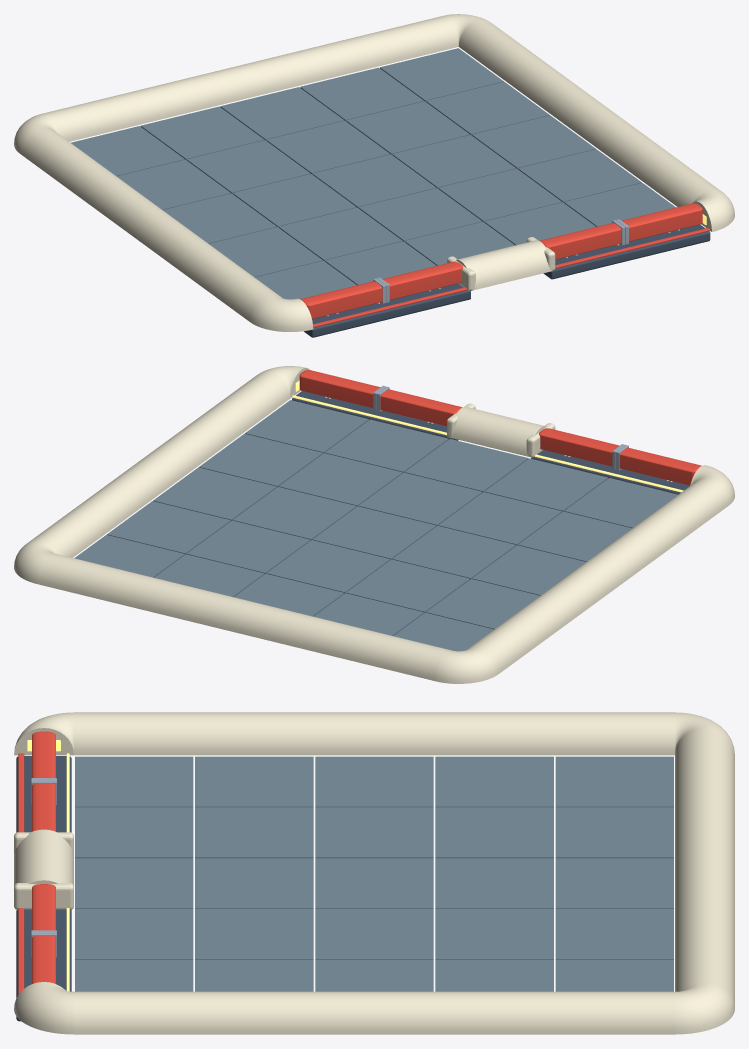
File: AFJ_Modular_Board_5x5_Example.fbx
The picture shows the model from 3 angles, top to bottom: view 1: azimuth 30°, elevation 25°; view 2: azimuth 150°, elevation 25°; view 3: azimuth 270°, elevation 25°; orthographic projection. The views are drawn at different scales.
Parts seen in each view (by area): view 1: Tile_3_3, Tile_1_2, Tile_1_3, Tile_2_1, Tile_2_2, Tile_2_3, Tile_2_4, Tile_3_2, Tile_3_4, Tile_1_4, Tile_4_2, Tile_1_1 (+40 smaller); view 2: Tile_2_2, Tile_3_2, Tile_1_0, Tile_1_3, Tile_4_3, Tile_1_1, Tile_2_3, Tile_2_0, Tile_2_1, Tile_3_3, Tile_4_0, Tile_4_1 (+39 smaller); view 3: Tile_0_1, Tile_0_2, Tile_0_3, Tile_1_1, Tile_1_2, Tile_1_3, Tile_1_0, Tile_1_4, Tile_0_0, Tile_0_4, Tile_2_0, Tile_2_1 (+42 smaller).
Boxes of the visible parts, left/top/right/bottom form: Tile_3_3: left=346, top=101, right=469, bottom=154; Tile_1_2: left=232, top=174, right=356, bottom=227; Tile_1_3: left=186, top=140, right=310, bottom=193; Tile_2_1: left=358, top=188, right=482, bottom=241; Tile_2_2: left=312, top=154, right=436, bottom=207; Tile_2_3: left=266, top=121, right=390, bottom=174; Tile_2_4: left=220, top=87, right=344, bottom=140; Tile_3_2: left=392, top=135, right=516, bottom=188; Tile_3_4: left=300, top=67, right=423, bottom=121; Tile_1_4: left=140, top=106, right=264, bottom=159; Tile_4_2: left=472, top=115, right=595, bottom=168; Tile_1_1: left=279, top=207, right=402, bottom=261; Tile_2_2: left=312, top=506, right=436, bottom=559; Tile_3_2: left=232, top=487, right=356, bottom=540; Tile_1_0: left=484, top=458, right=608, bottom=511; Tile_1_3: left=346, top=559, right=469, bottom=613; Tile_4_3: left=107, top=501, right=230, bottom=554; Tile_1_1: left=438, top=492, right=562, bottom=545; Tile_2_3: left=266, top=540, right=390, bottom=593; Tile_2_0: left=404, top=439, right=528, bottom=492; Tile_2_1: left=358, top=472, right=482, bottom=526; Tile_3_3: left=187, top=520, right=310, bottom=573; Tile_4_0: left=245, top=400, right=368, bottom=453; Tile_4_1: left=199, top=433, right=322, bottom=487; Tile_0_1: left=195, top=756, right=313, bottom=807; Tile_0_2: left=315, top=756, right=433, bottom=807; Tile_0_3: left=435, top=756, right=553, bottom=807; Tile_1_1: left=195, top=807, right=313, bottom=858; Tile_1_2: left=315, top=807, right=433, bottom=858; Tile_1_3: left=435, top=807, right=553, bottom=858; Tile_1_0: left=75, top=807, right=193, bottom=858; Tile_1_4: left=555, top=807, right=673, bottom=858; Tile_0_0: left=75, top=756, right=193, bottom=807; Tile_0_4: left=555, top=756, right=673, bottom=807; Tile_2_0: left=75, top=858, right=193, bottom=908; Tile_2_1: left=195, top=858, right=313, bottom=908.
Size of the model in its own units: 600 by 44 by 600.
